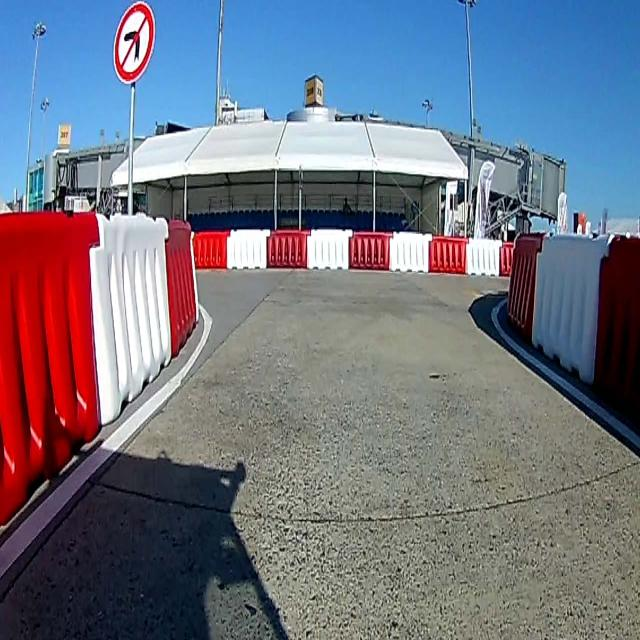soladonulmez: (112, 5, 153, 82)
